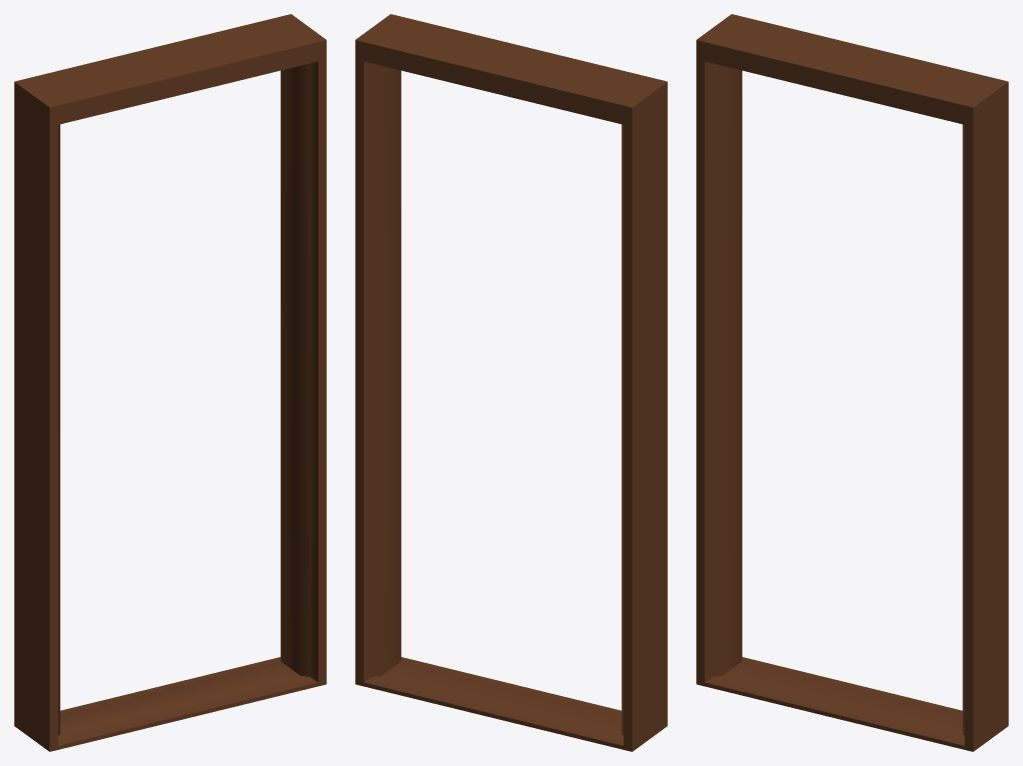
File: doorframe.fbx
3 renders of one model, left to right at view 1: azimuth 30°, elevation 25°; view 2: azimuth 150°, elevation 25°; view 3: azimuth 330°, elevation 25°, orthographic.
Parts seen in each view (by area): view 1: pCube3; view 2: pCube3; view 3: pCube3.
Boxes of the visible parts, left/top/right/bottom form: pCube3: left=14, top=14, right=326, bottom=751; pCube3: left=355, top=14, right=667, bottom=751; pCube3: left=696, top=14, right=1008, bottom=751.
Bounding box in the file's own units: 90 × 200 × 20.
